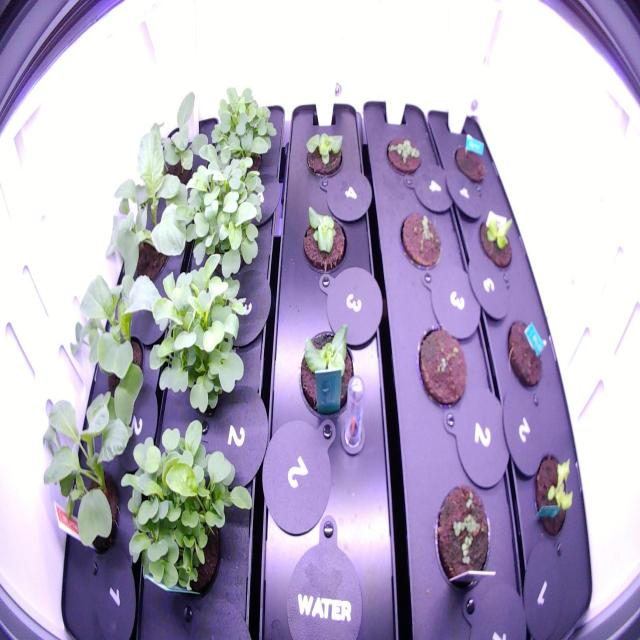germination: (426, 477, 494, 597), (412, 314, 470, 414), (394, 203, 445, 280), (381, 128, 425, 181)
young: (292, 315, 358, 430), (530, 448, 579, 540), (296, 201, 350, 278), (468, 206, 516, 272), (298, 127, 347, 181)
